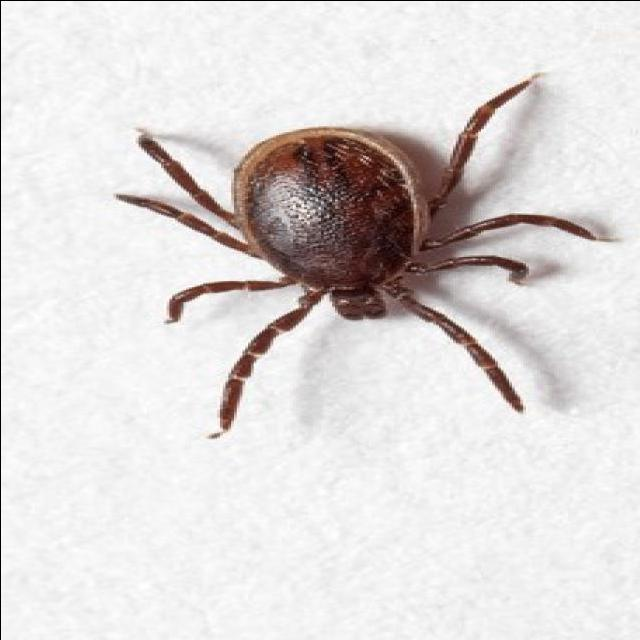Ixodes Ricinus-M: (115, 75, 615, 438)
